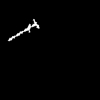double_crochet: (9, 20, 38, 40)
